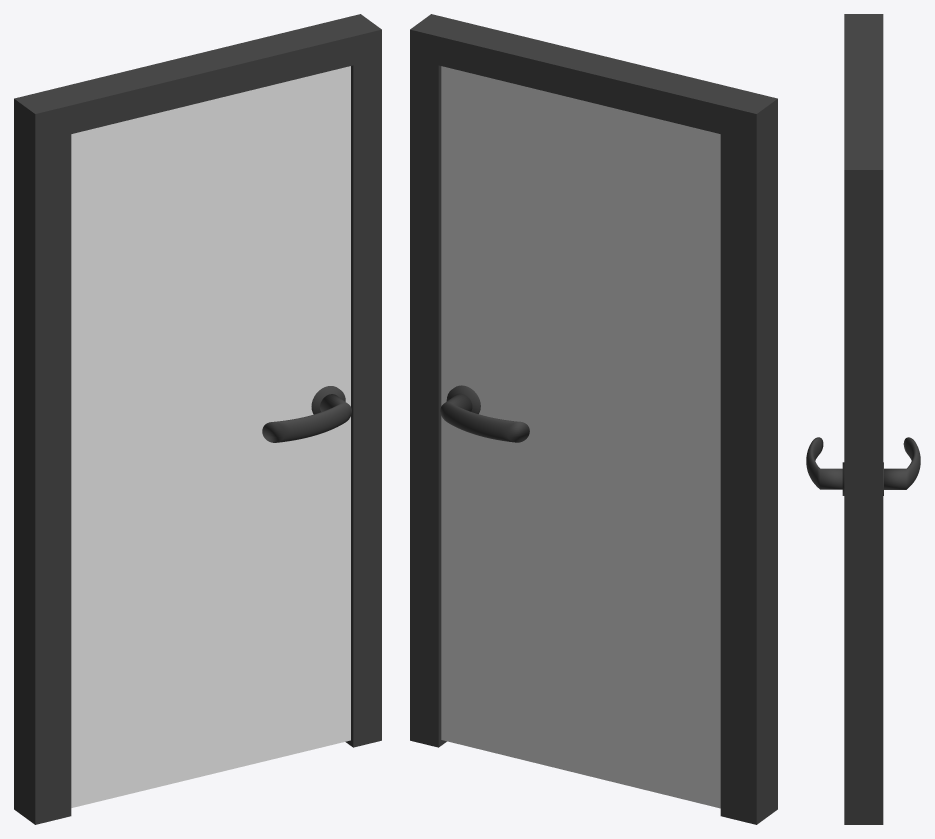
File: Office-Door.glb
3 renders of one model, left to right at view 1: azimuth 30°, elevation 25°; view 2: azimuth 150°, elevation 25°; view 3: azimuth 270°, elevation 25°, orthographic. The views are drawn at different scales.
Parts seen in each view (by area): view 1: Cylindre.001, Cube.001; view 2: Cylindre.001, Cube.001; view 3: Cube.001, Cylindre.001.
Boxes of the visible parts, x1,y1,x2,y2 form: Cylindre.001: (71, 66, 351, 807); Cube.001: (14, 14, 381, 824); Cylindre.001: (440, 66, 720, 808); Cube.001: (410, 14, 777, 824); Cube.001: (844, 14, 883, 824); Cylindre.001: (806, 437, 920, 495).
Bounding box in the file's own units: 2.06 × 4.03 × 0.6391.
4 materials, 3 textured.
